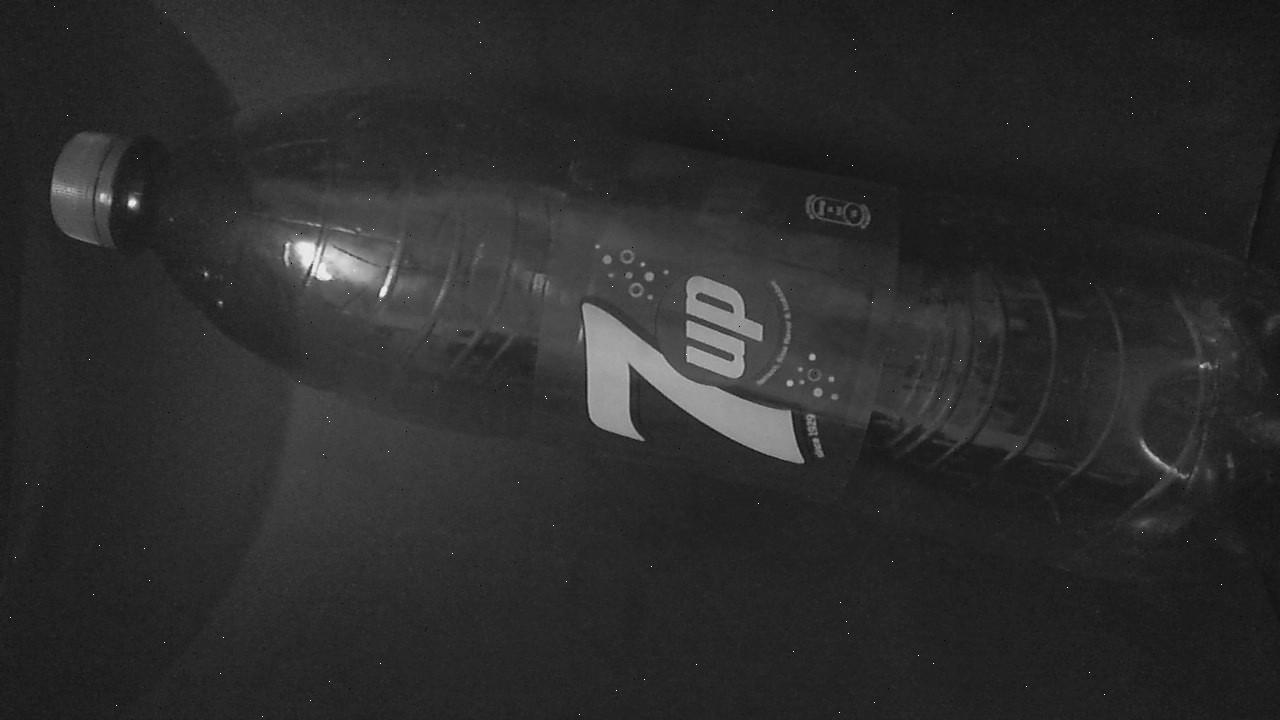bottle: (35, 83, 1280, 594)
